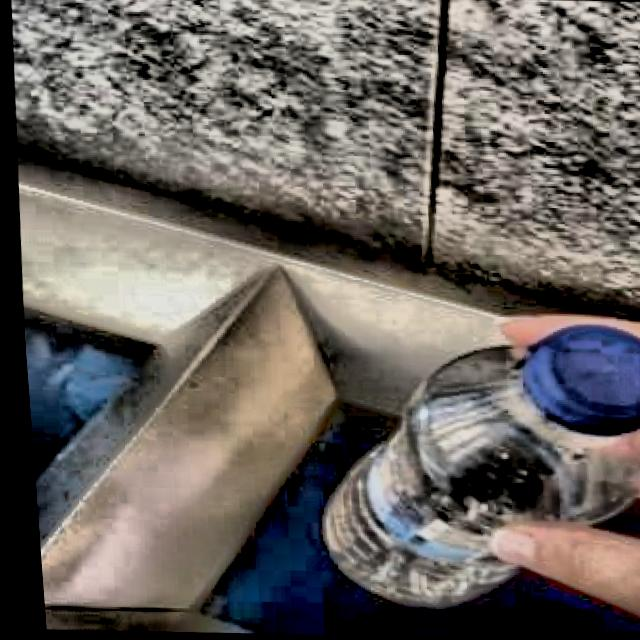plastic: (314, 328, 640, 609)
